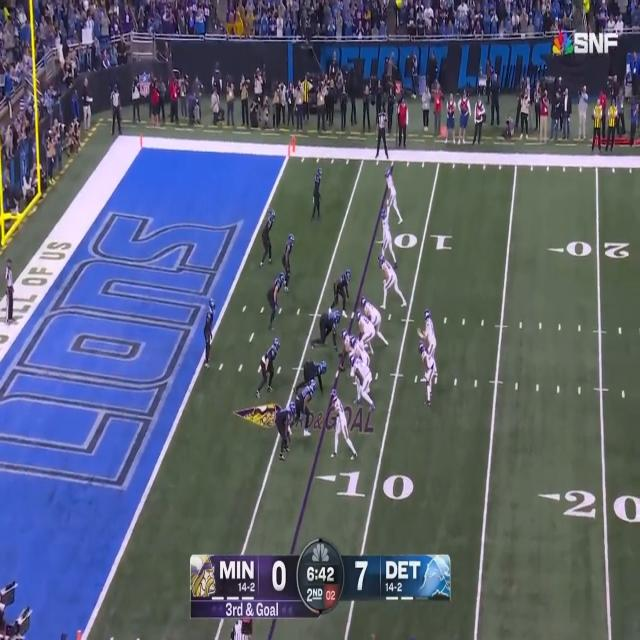Player: (257, 337, 281, 401), (331, 388, 352, 461), (348, 355, 376, 406), (294, 379, 316, 434), (378, 255, 400, 308), (276, 402, 296, 458), (266, 270, 284, 328), (418, 342, 434, 406), (320, 308, 341, 349), (282, 233, 296, 294), (204, 298, 216, 367), (262, 208, 276, 264), (332, 270, 352, 309), (385, 168, 399, 221), (312, 167, 323, 222), (356, 310, 375, 341), (423, 307, 436, 349), (379, 209, 391, 253), (303, 360, 329, 380), (360, 292, 378, 316), (350, 335, 367, 357), (342, 330, 350, 356)
Referee: (2, 256, 18, 328), (108, 83, 124, 138), (377, 106, 391, 160)
